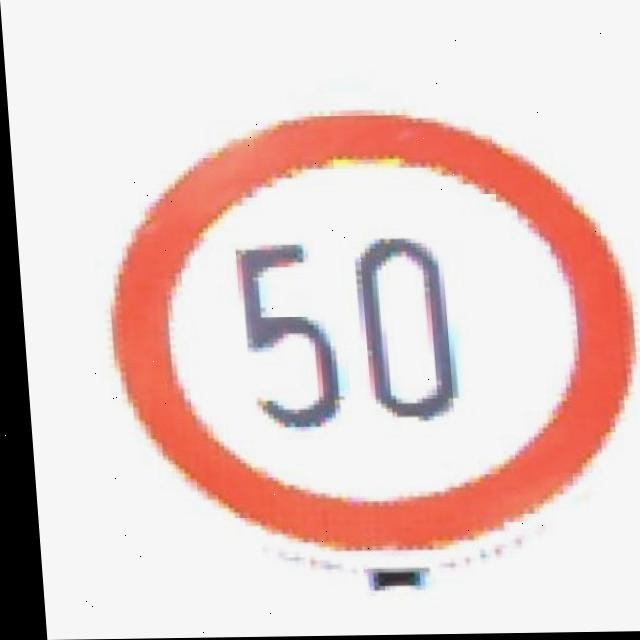Speed limit 50: (90, 105, 640, 574)
